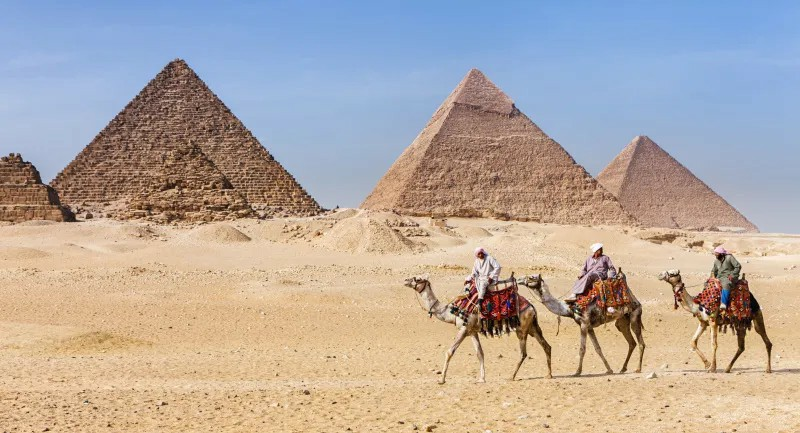Pyramid: (46, 59, 326, 217), (363, 69, 643, 225), (596, 134, 762, 235), (108, 141, 263, 220), (1, 151, 76, 224)
